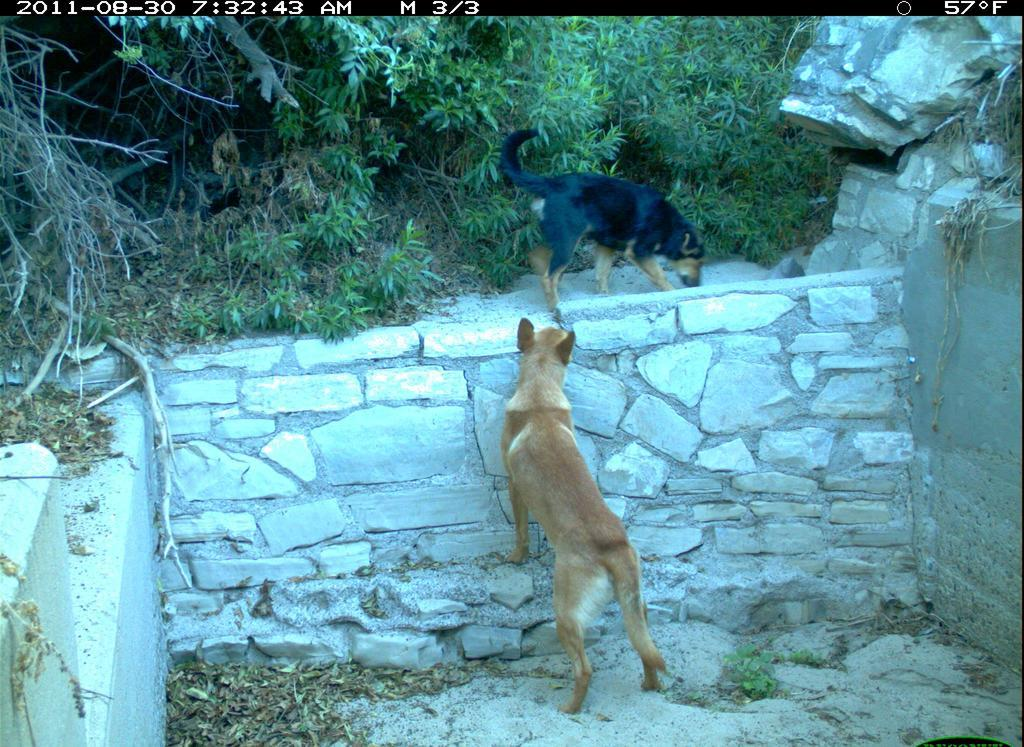dog: (481, 309, 687, 726), (477, 112, 743, 323)
